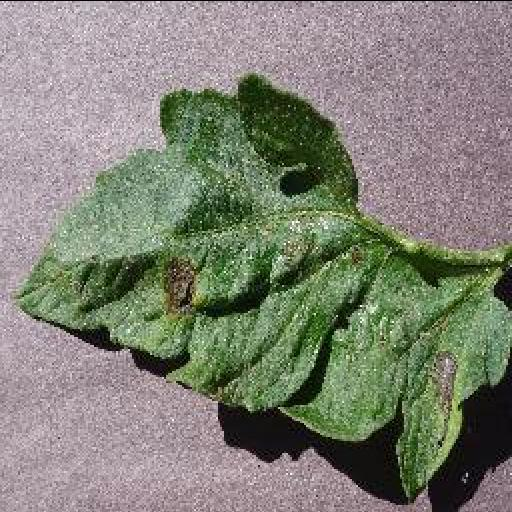Early Blight: (10, 74, 512, 500)
